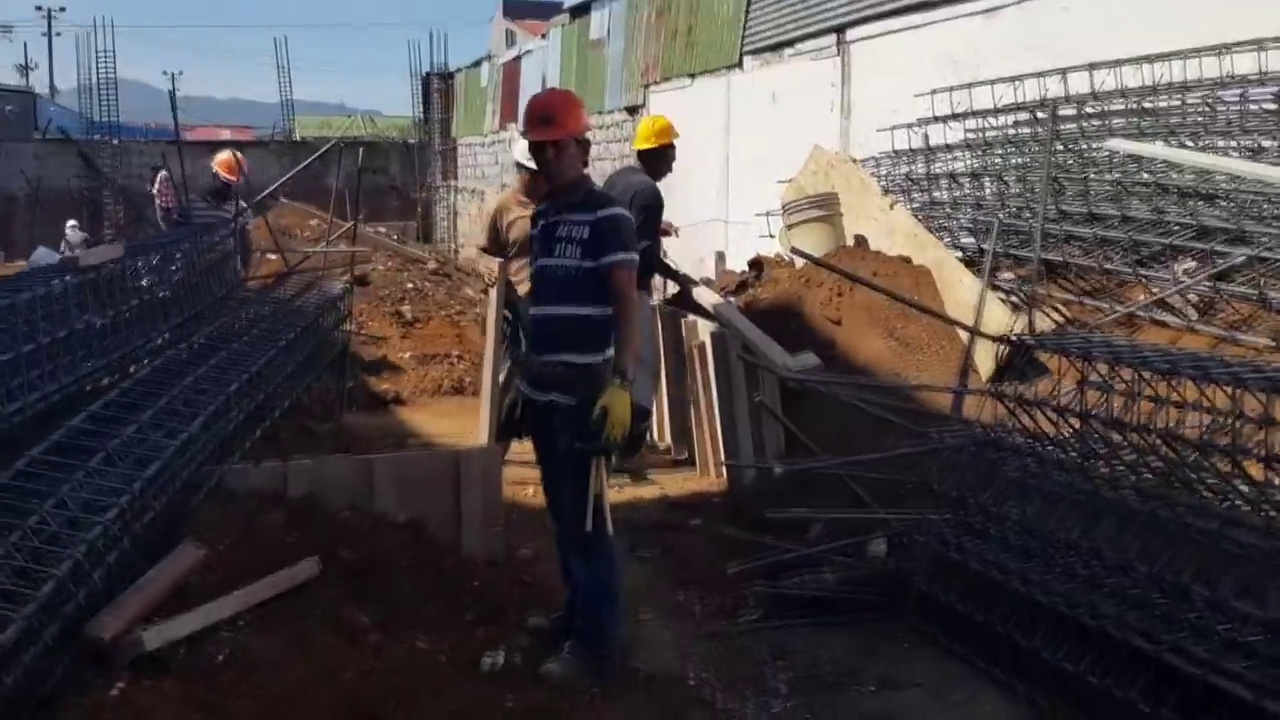helmet: (512, 86, 601, 147), (628, 109, 680, 152), (501, 139, 539, 175), (212, 149, 245, 186), (64, 219, 79, 229)
helmet-off: (150, 161, 164, 176)
helmet-on: (515, 87, 598, 194), (628, 110, 681, 181), (197, 149, 247, 204), (504, 140, 536, 195), (64, 219, 80, 237)
person: (506, 87, 660, 690), (600, 111, 681, 476), (465, 135, 540, 388), (602, 100, 692, 294), (149, 161, 178, 228), (60, 219, 91, 256)
